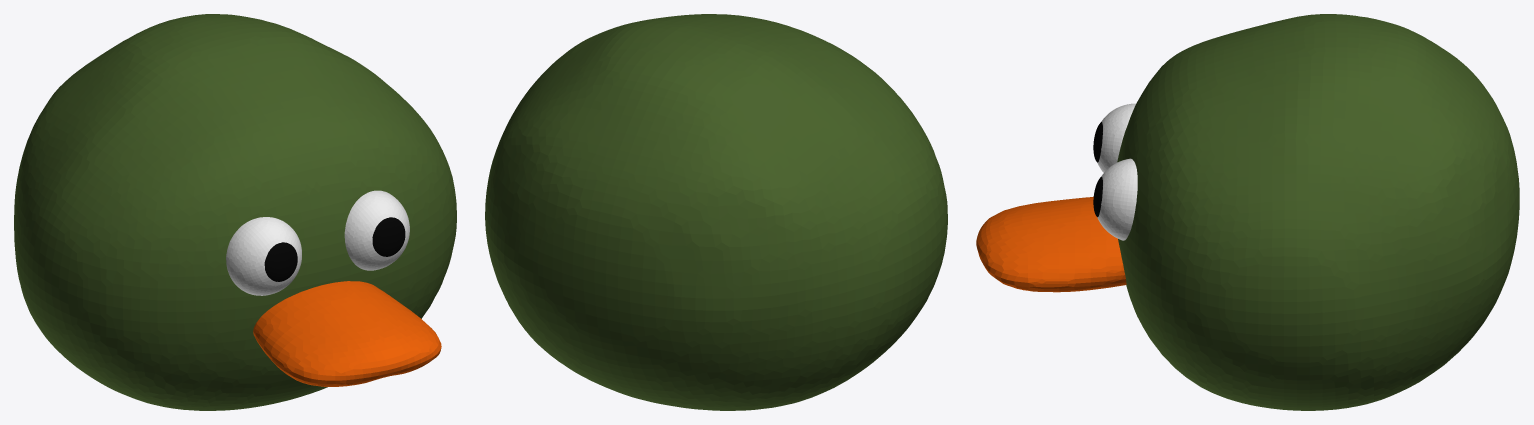
File: duck.fbx
3 views of the same model, side by side, from view 1: azimuth 30°, elevation 25°; view 2: azimuth 150°, elevation 25°; view 3: azimuth 270°, elevation 25° (orthographic). The views are drawn at different scales.
Parts seen in each view (by area): view 1: Cube.001, Cube.002, Sphere.002, Sphere.001; view 2: Cube.001; view 3: Cube.001, Cube.002, Sphere.001, Sphere.002.
Boxes of the visible parts, x1,y1,x2,y2 form: Cube.001: (14, 14, 456, 410); Cube.002: (253, 281, 441, 386); Sphere.002: (226, 217, 301, 295); Sphere.001: (344, 190, 409, 270); Cube.001: (485, 14, 947, 410); Cube.001: (1117, 14, 1519, 410); Cube.002: (976, 196, 1126, 292); Sphere.001: (1093, 158, 1137, 240); Sphere.002: (1093, 103, 1135, 172).
Size of the model in its own units: 318 by 263 by 376.
